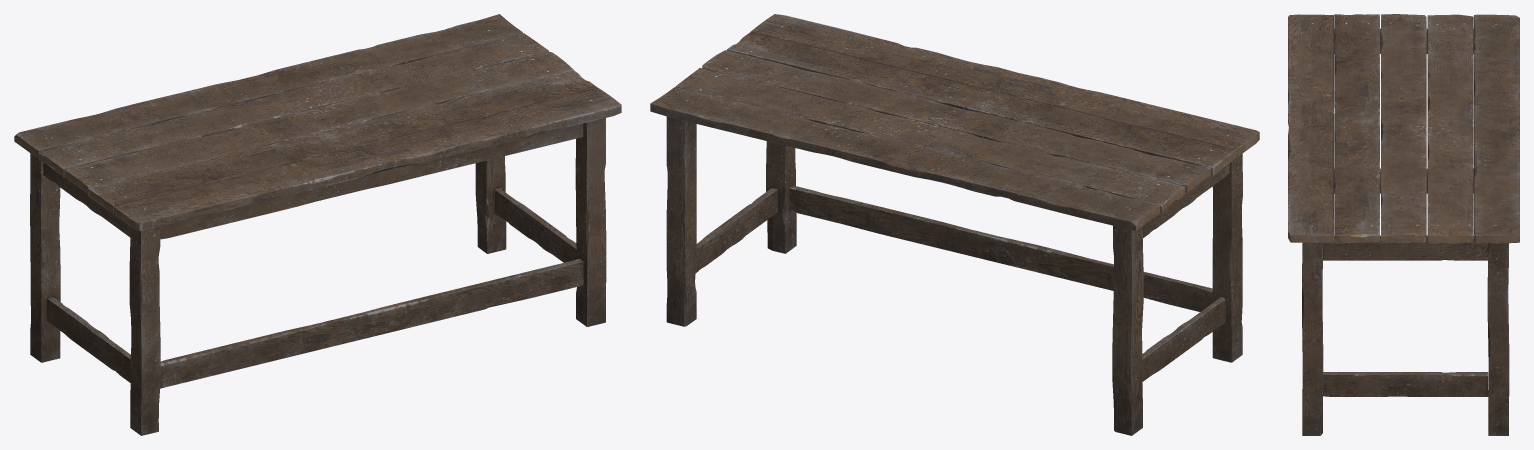
File: mesa.glb
The picture shows the model from 3 angles, left to right: view 1: azimuth 30°, elevation 25°; view 2: azimuth 150°, elevation 25°; view 3: azimuth 270°, elevation 25°; orthographic projection. The views are drawn at different scales.
Parts seen in each view (by area): view 1: Wooden_Table; view 2: Wooden_Table; view 3: Wooden_Table.
Boxes of the visible parts, x1,y1,x2,y2 form: Wooden_Table: (14, 14, 621, 435); Wooden_Table: (650, 14, 1259, 435); Wooden_Table: (1288, 14, 1519, 435).
Size of the model in its own units: 2.01 by 0.8712 by 0.8875.
Materials: 1 (1 with a texture image).
